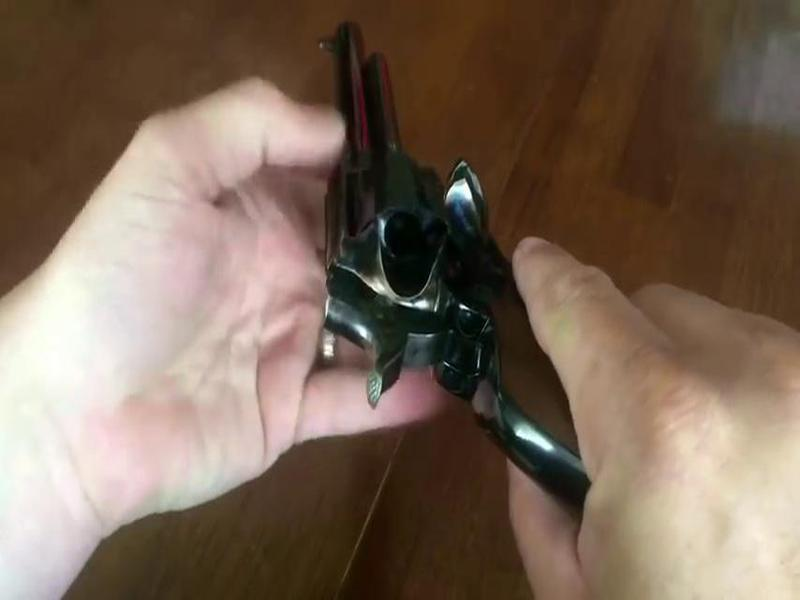Revolver: (287, 13, 566, 460)
